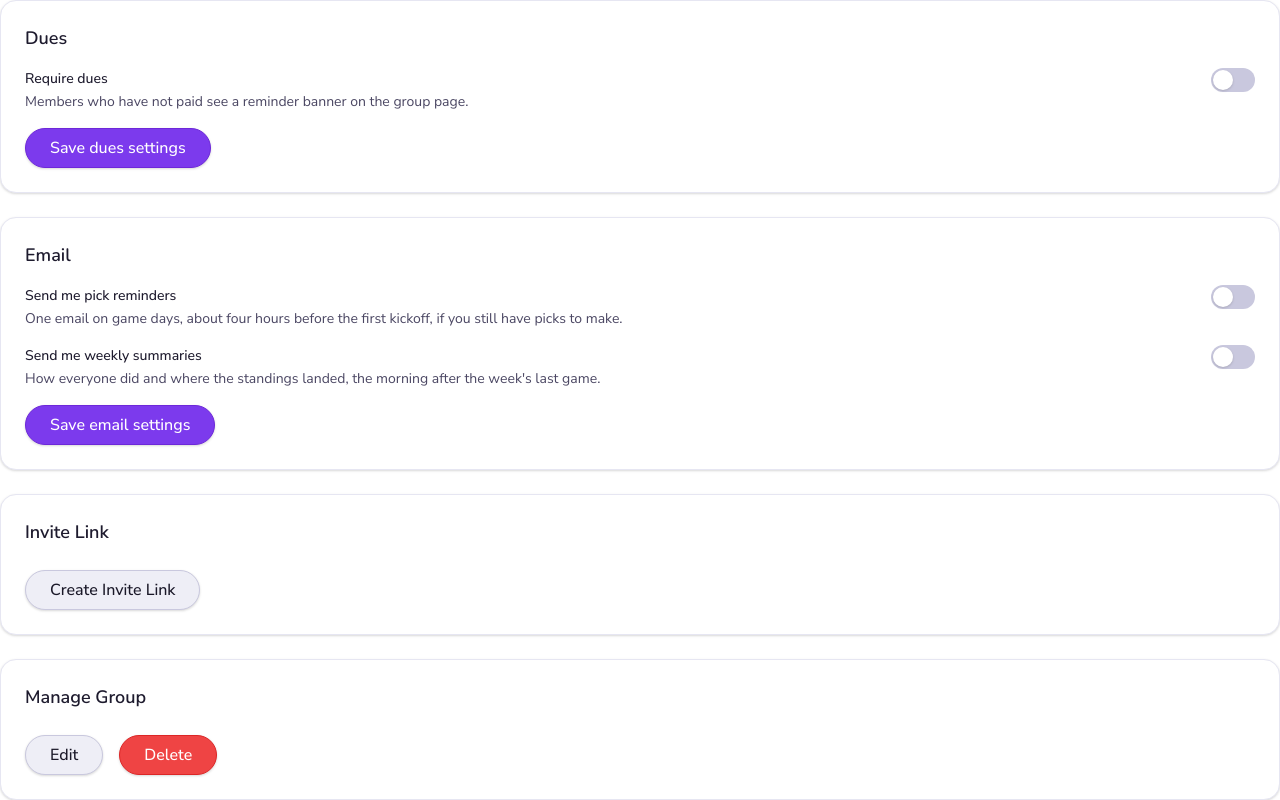
Test case: SettingsTab owner actions › does not delete when the confirm modal is cancelled
The width and height of the screenshot is (1280, 800).
(page scrolled)
Click the button "Delete" at (168, 755), box x1=119 y1=735 x2=217 y2=775
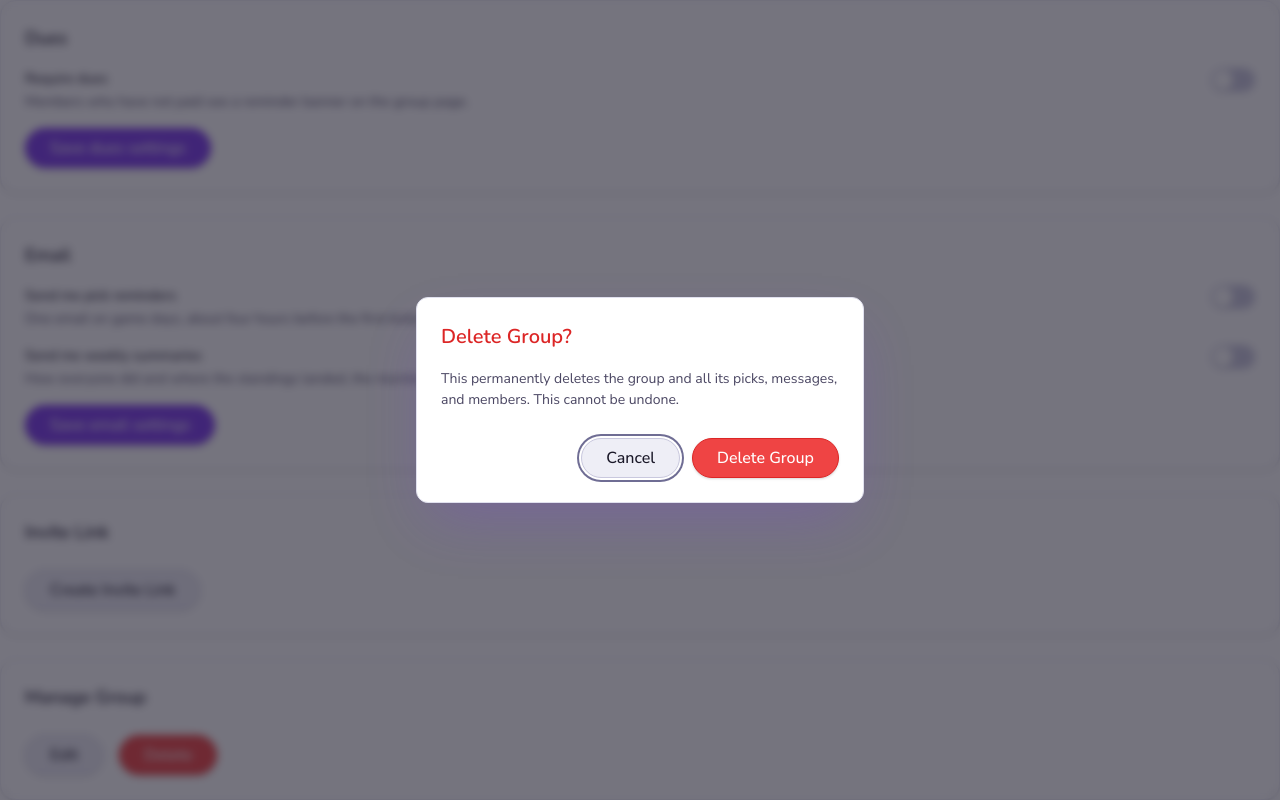
Click the button "Cancel" at (631, 458), box x1=581 y1=438 x2=680 y2=478
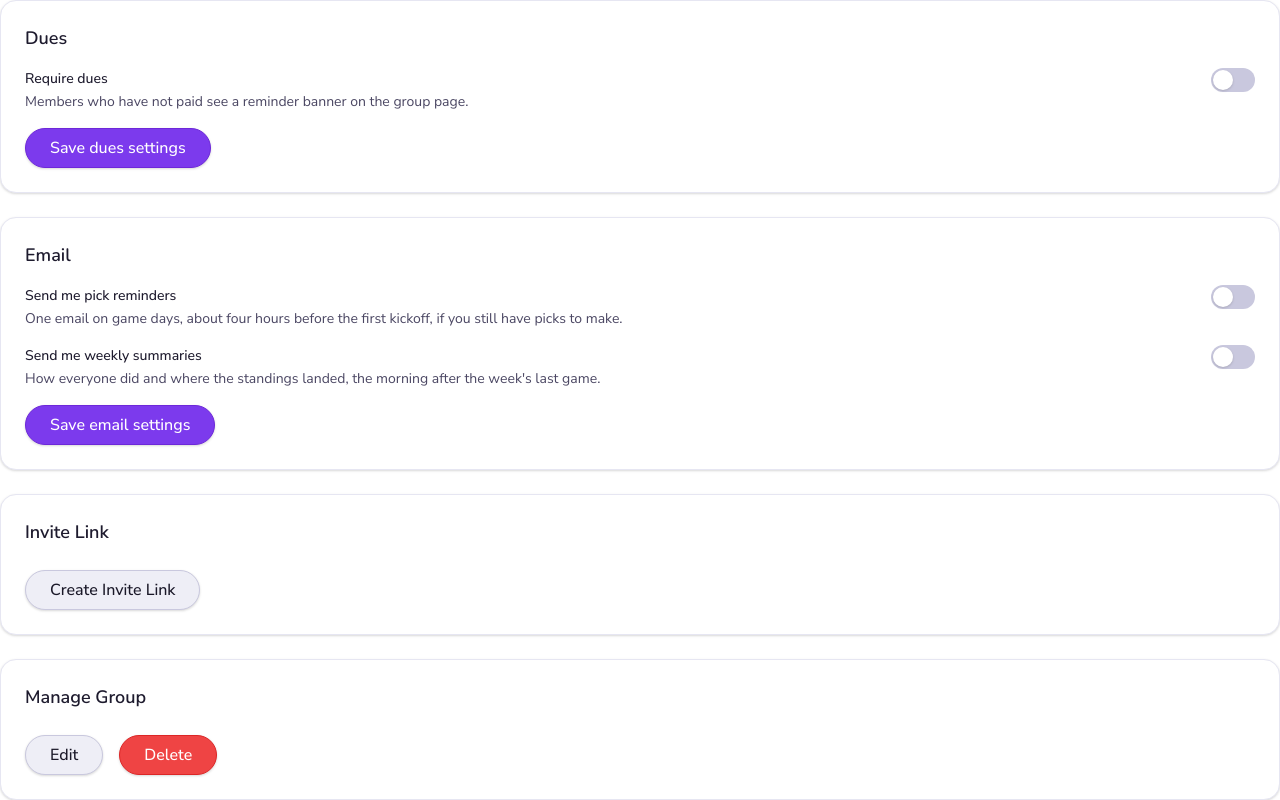
Check: the dialog is gone
